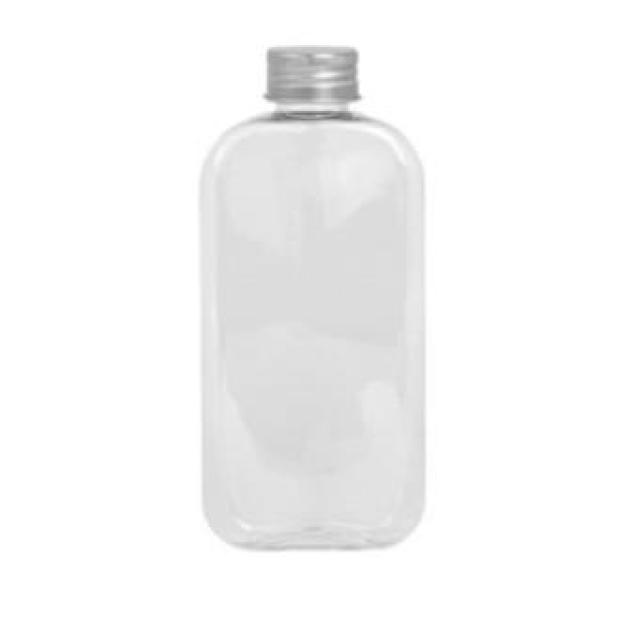bottle: (198, 47, 426, 550)
